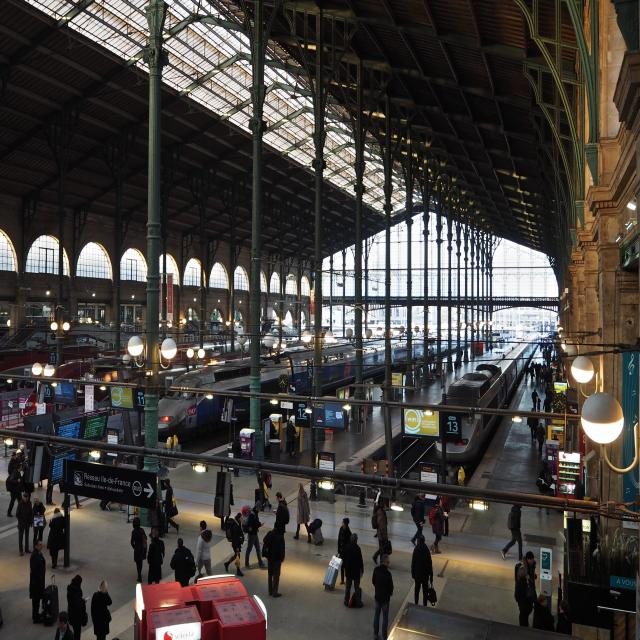body: (566, 526, 640, 591), (261, 518, 286, 600), (410, 534, 438, 607), (240, 500, 268, 570), (372, 553, 394, 640), (341, 531, 365, 610), (522, 361, 566, 397), (514, 564, 538, 629), (89, 578, 114, 640), (28, 538, 46, 624), (223, 511, 246, 578), (269, 491, 290, 562), (519, 551, 538, 629), (129, 516, 149, 584), (170, 537, 197, 587), (157, 477, 180, 535), (67, 574, 87, 640), (5, 462, 28, 518), (500, 504, 522, 562), (46, 507, 66, 570), (293, 482, 313, 545), (146, 527, 166, 585), (15, 492, 33, 556), (534, 460, 554, 516), (409, 490, 428, 548), (372, 502, 389, 565), (106, 460, 126, 513), (194, 520, 212, 578), (337, 518, 352, 585), (31, 496, 49, 551), (430, 498, 447, 554), (532, 333, 566, 361), (532, 594, 556, 632), (301, 350, 346, 368), (371, 487, 385, 538), (555, 599, 573, 636), (257, 471, 272, 513), (149, 497, 163, 540), (54, 610, 74, 640), (2, 372, 32, 392), (231, 434, 243, 478), (490, 332, 517, 351), (526, 407, 540, 443), (440, 494, 450, 537), (61, 492, 83, 510), (286, 420, 296, 458), (535, 422, 546, 456), (220, 503, 232, 531), (7, 451, 19, 476), (16, 442, 28, 466), (574, 474, 584, 500), (46, 486, 56, 506), (531, 388, 539, 412), (543, 395, 550, 421), (0, 606, 7, 632), (270, 419, 277, 440), (539, 454, 547, 468), (453, 359, 458, 376), (41, 308, 50, 317), (36, 478, 44, 487), (459, 348, 464, 362), (111, 458, 118, 467), (551, 434, 560, 441), (109, 635, 121, 640), (431, 366, 437, 376), (490, 343, 493, 354)
